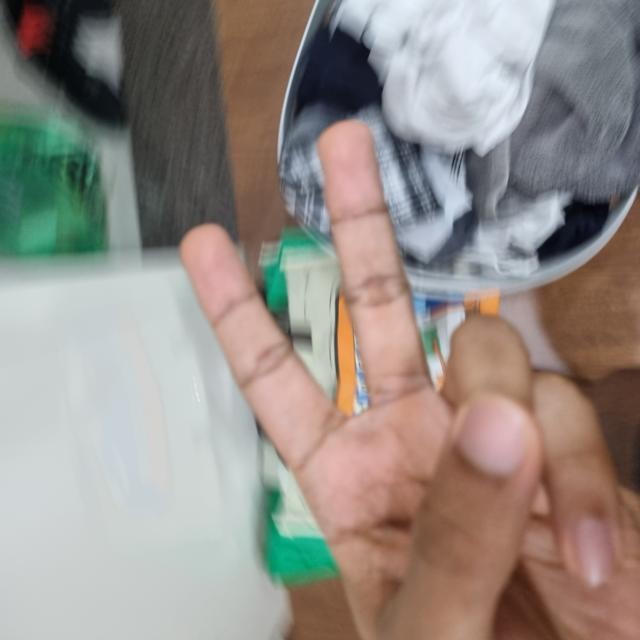Scissors: (4, 179, 522, 640)
